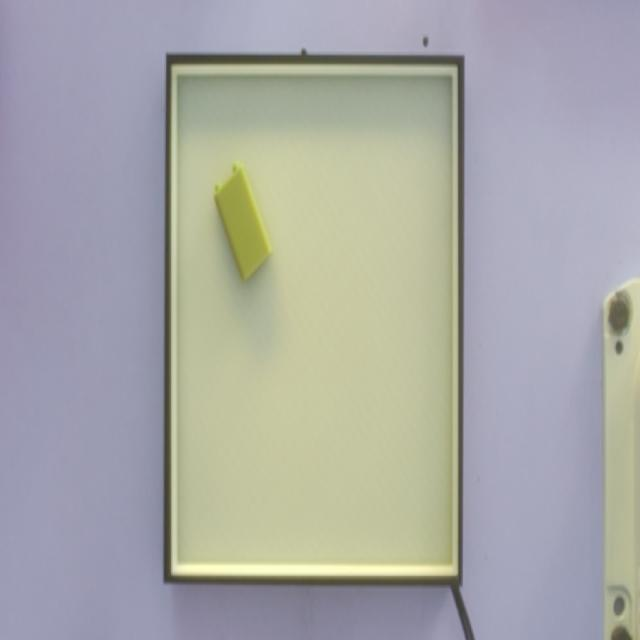bateria: (213, 162, 273, 285)
mesa: (163, 56, 464, 586)
